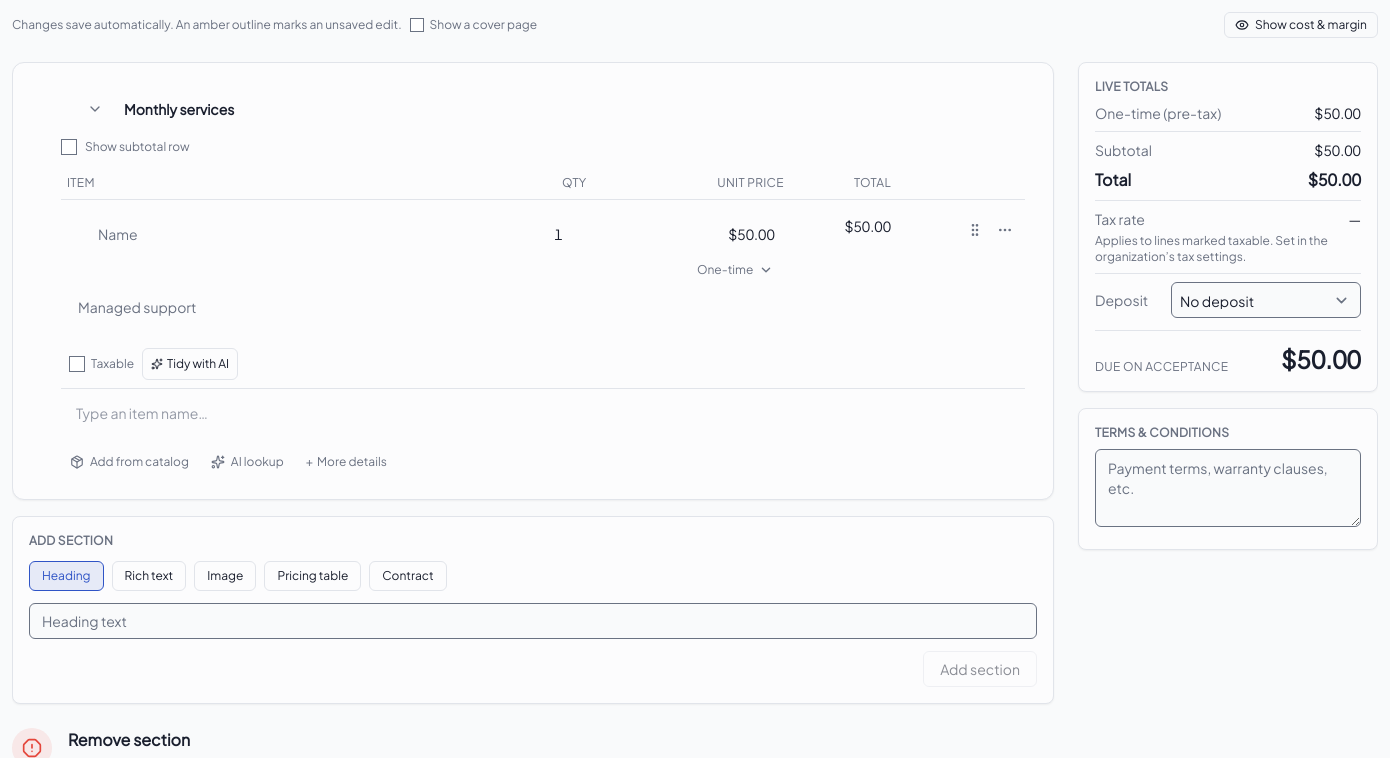
it: QuoteEditor — explicit "no cost" designation (Task B1) › checking "No cost" sets an explicit cost of 0 through the same commit path as typing it
Click the button with test id "quote-editor-toggle-internal" at (1301, 25), box [1224,12,1378,38]
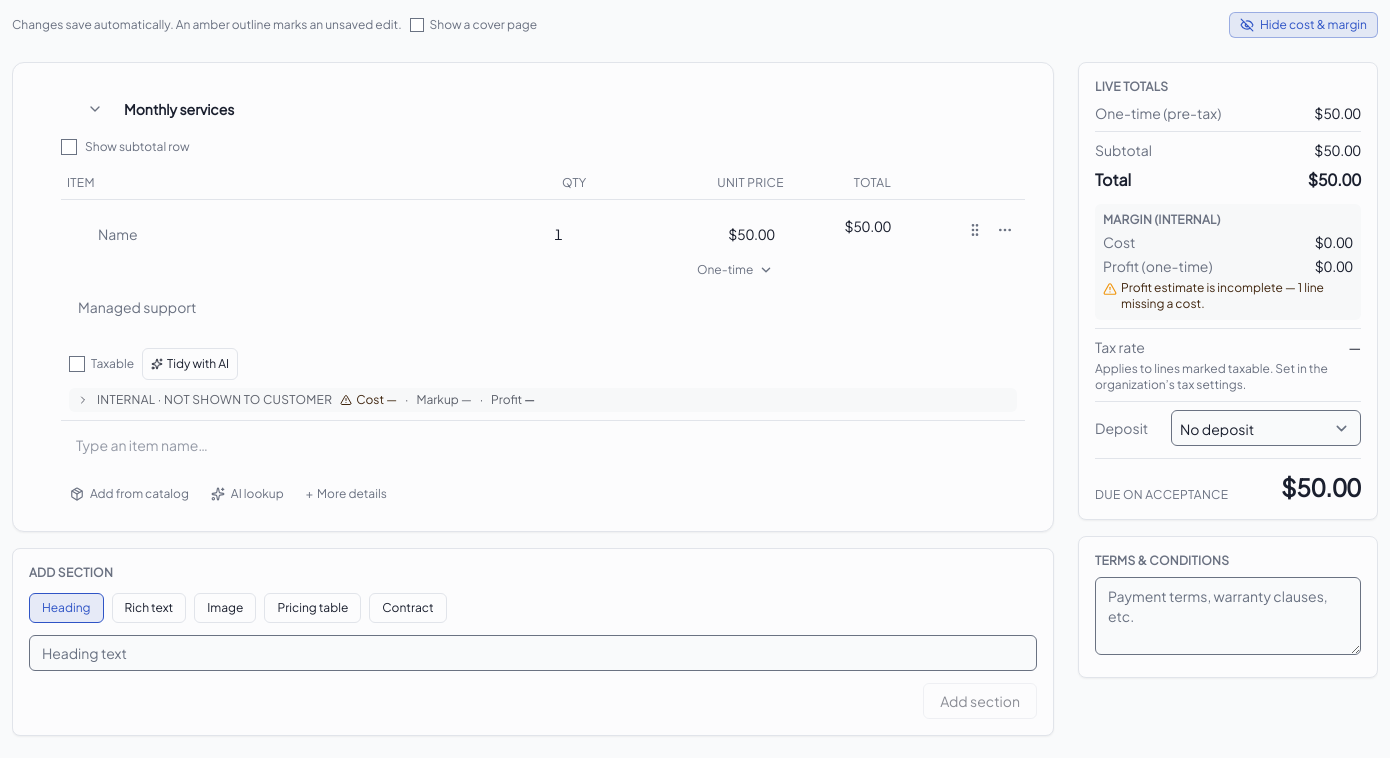
Click the button with test id "quote-line-internal-toggle-line-1" at (215, 400), box [77,392,1009,408]
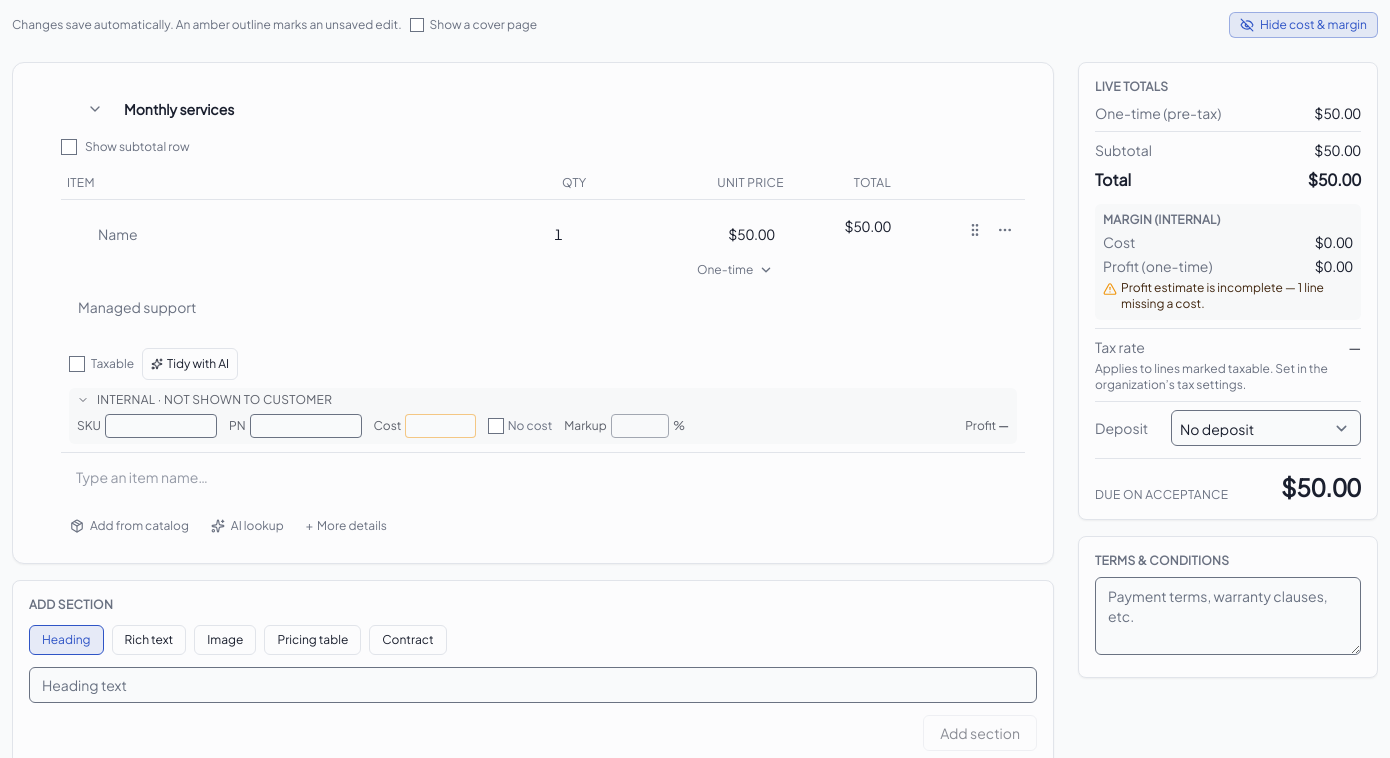
Click the checkbox with test id "quote-line-nocost-line-1" at (496, 426), box [488,418,504,434]
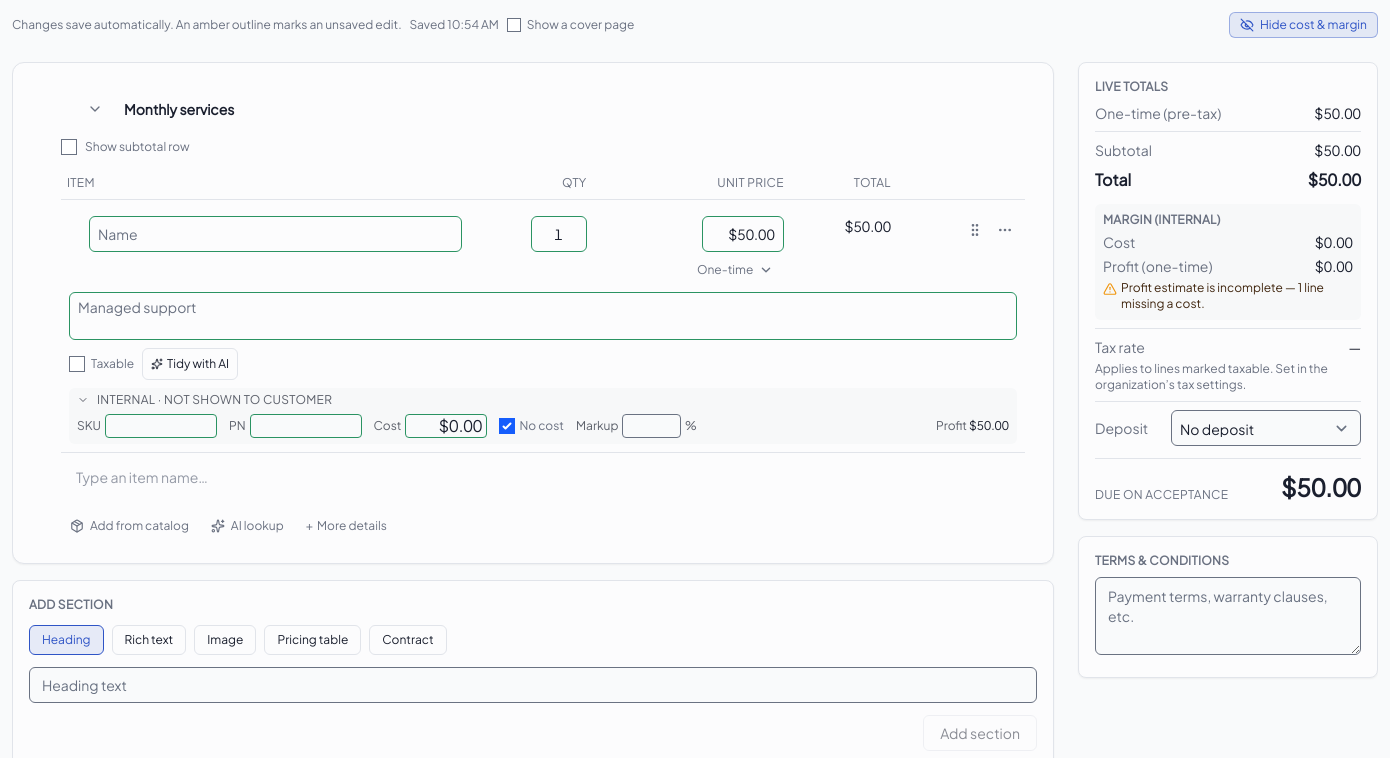
Result: the field with test id "quote-line-cost-line-1" holds "$0.00" at [406,414,488,438]
